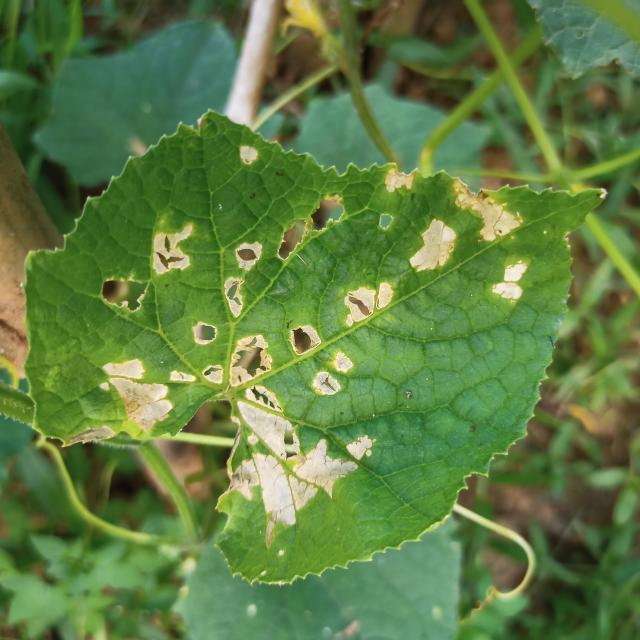disease_cucumber: (95, 215, 398, 540), (273, 150, 547, 332), (229, 137, 259, 170)
